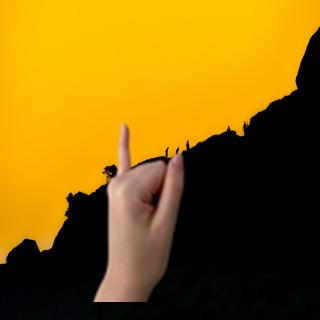Fine: (97, 109, 195, 289)
